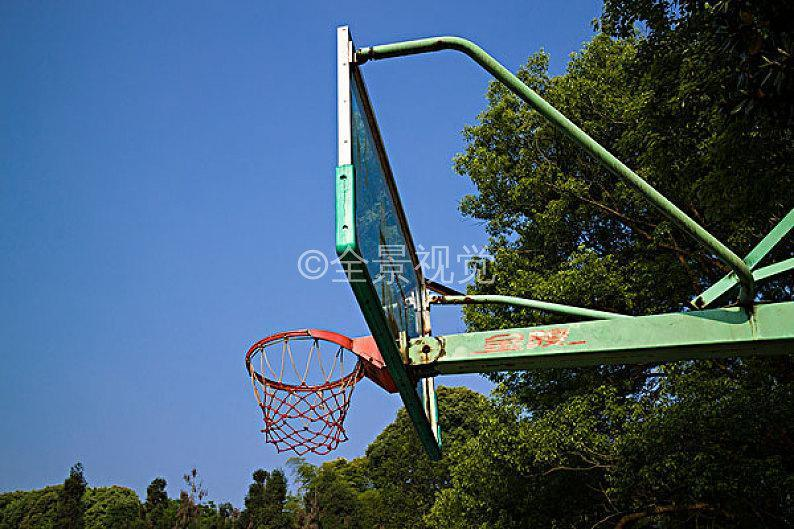rim: (246, 330, 363, 457)
